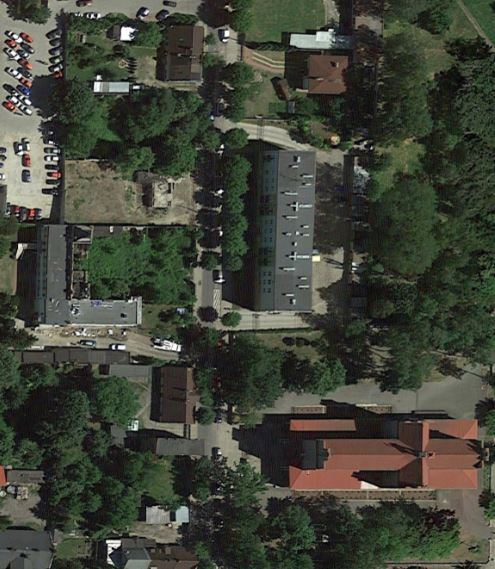block of flats: (239, 143, 324, 315), (33, 222, 149, 329)
church: (267, 411, 494, 496)
family house: (110, 533, 213, 569), (152, 362, 205, 428), (159, 23, 206, 83), (1, 525, 61, 569), (298, 52, 356, 96)
garage: (11, 347, 154, 382), (146, 434, 211, 462)
